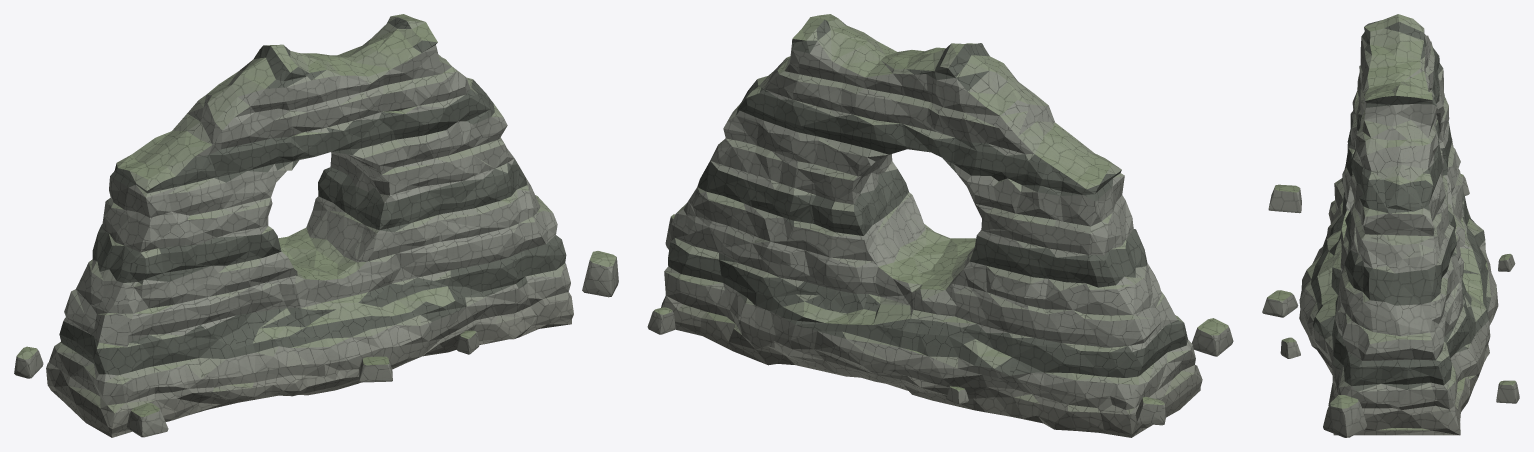
Rendered from rock_window.glb.
3 views of the same model, side by side, from view 1: azimuth 30°, elevation 25°; view 2: azimuth 150°, elevation 25°; view 3: azimuth 270°, elevation 25° (orthographic). The views are drawn at different scales.
Visible parts, largest first — view 1: rock_window.001; view 2: rock_window.001; view 3: rock_window.001.
Part boxes in pixels (<box>): rock_window.001: <box>14,14,618,437</box>; rock_window.001: <box>647,14,1233,437</box>; rock_window.001: <box>1262,14,1519,437</box>.
Size of what is drawn, in the model's own units: 25.43 by 14.35 by 11.03.
Materials: 2 (2 with a texture image).
